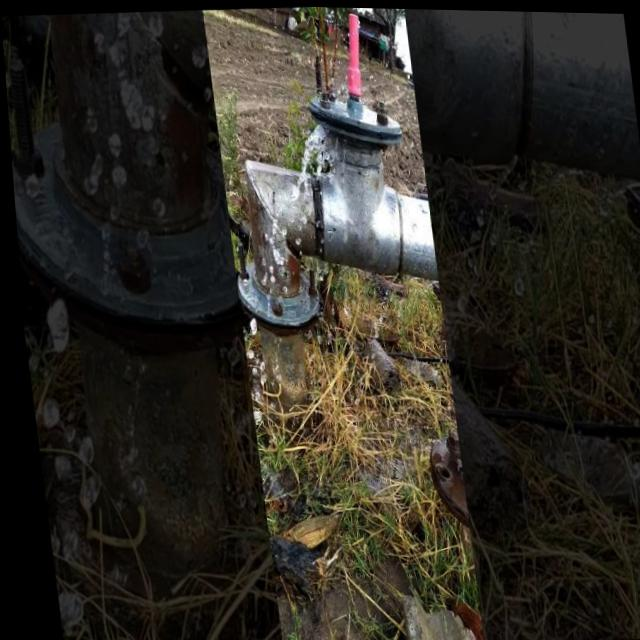leak: (237, 100, 367, 461)
